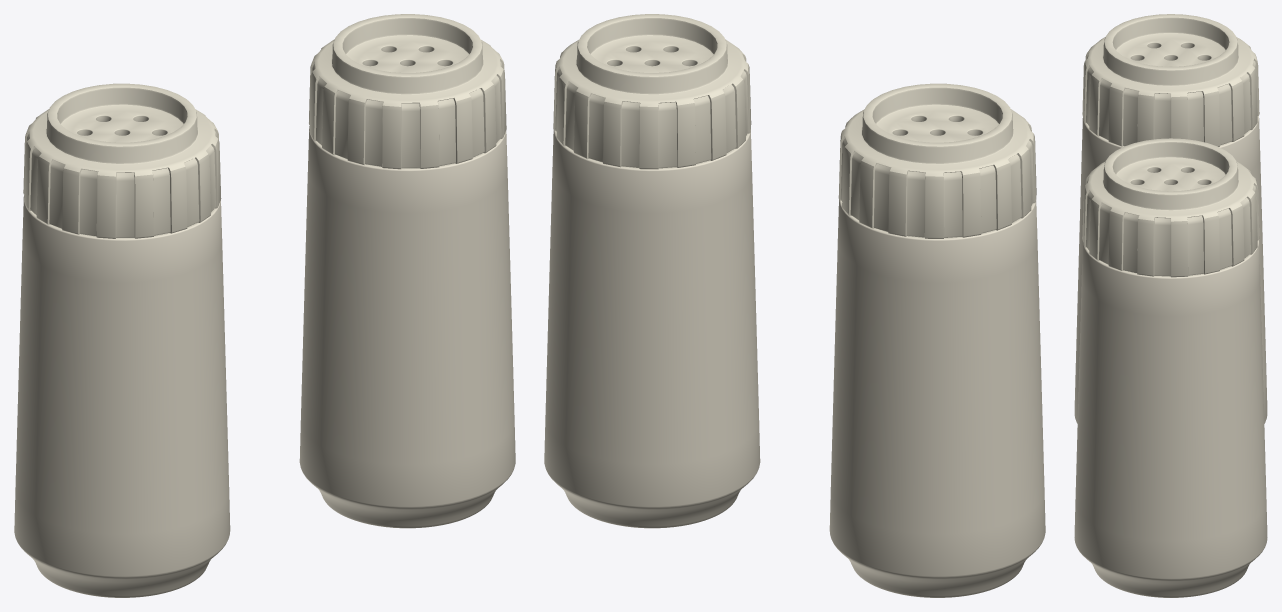
Rendered from Salt & Pepper Shakers.fbx.
3 renders of one model, left to right at view 1: azimuth 30°, elevation 25°; view 2: azimuth 150°, elevation 25°; view 3: azimuth 270°, elevation 25°, orthographic. The views are drawn at different scales.
Parts seen in each view (by area): view 1: Salt Shaker, Pepper Shaker, Salt Shaker Cap, Pepper Shaker Cap; view 2: Pepper Shaker, Salt Shaker, Salt Shaker Cap, Pepper Shaker Cap; view 3: Pepper Shaker, Pepper Shaker Cap, Salt Shaker Cap, Salt Shaker.
Boxes of the visible parts, x1,y1,x2,y2 form: Salt Shaker: (14,195,230,597); Pepper Shaker: (299,126,515,528); Salt Shaker Cap: (23,83,221,238); Pepper Shaker Cap: (309,14,506,169); Pepper Shaker: (544,129,760,528); Salt Shaker: (829,200,1045,597); Salt Shaker Cap: (838,83,1036,238); Pepper Shaker Cap: (553,14,751,169); Pepper Shaker: (1074,240,1267,597); Pepper Shaker Cap: (1082,138,1259,277); Salt Shaker Cap: (1082,14,1259,146); Salt Shaker: (1074,116,1267,423).
Size of the model in its own units: 8.41 by 7.62 by 3.33.
